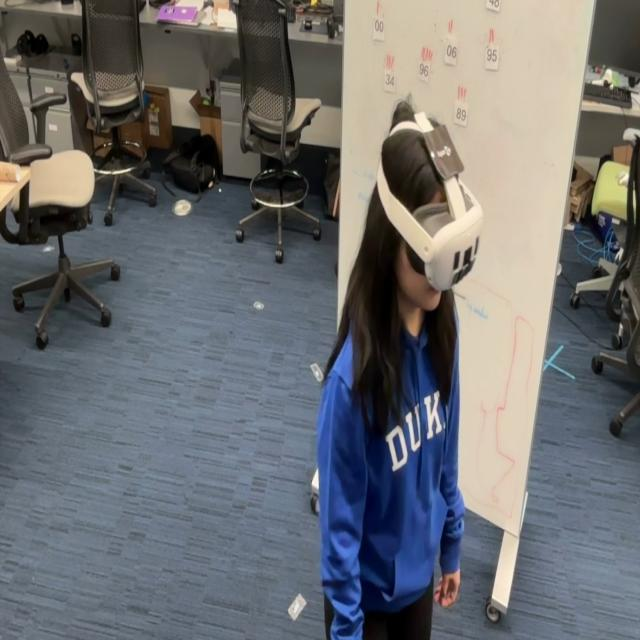Headset: (376, 109, 484, 293)
UnityLogo: (421, 117, 465, 183)
